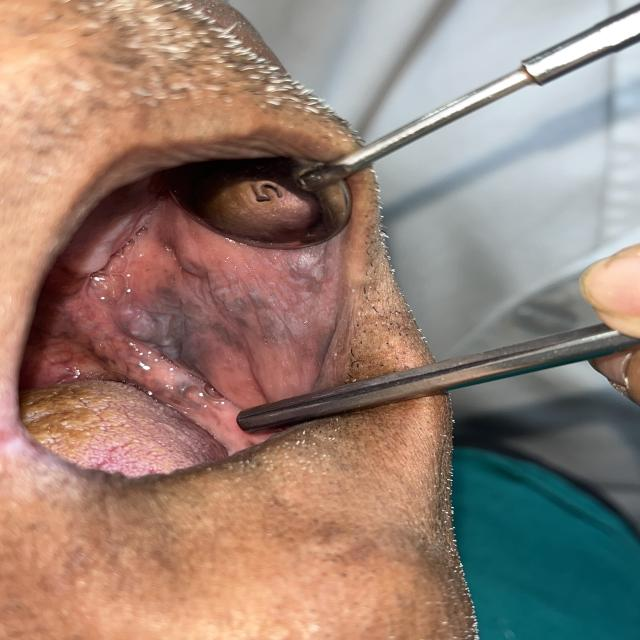leukoplakia-detection: (108, 232, 346, 399)
processing_area: (16, 205, 354, 475)
